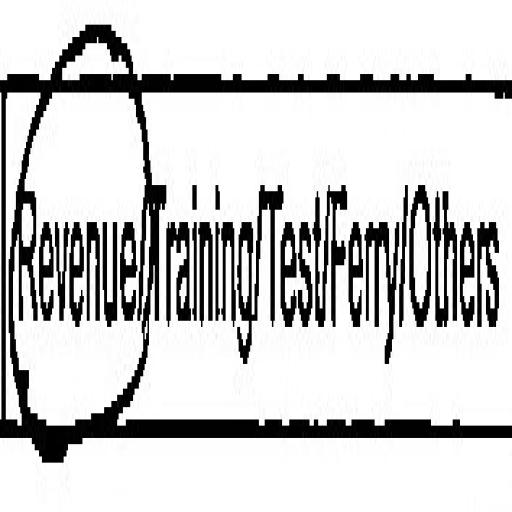check: (0, 0, 143, 487)
